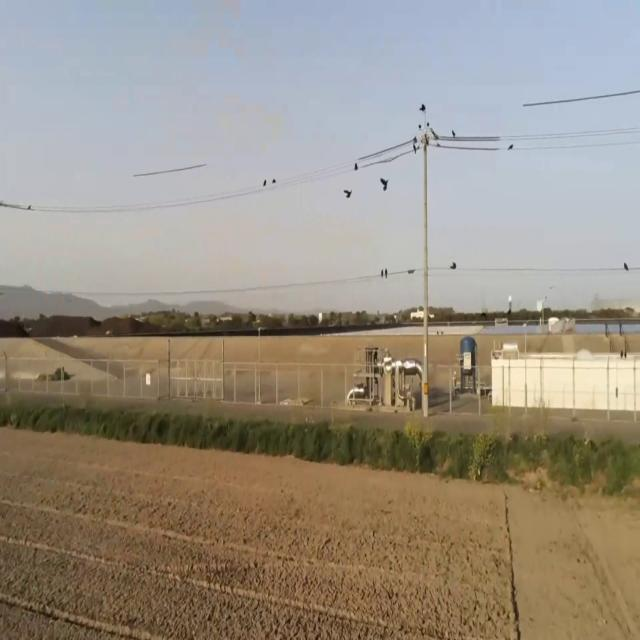bird: (380, 172, 389, 192), (344, 182, 352, 202), (508, 138, 514, 155), (414, 133, 418, 156), (451, 257, 456, 275), (624, 258, 628, 276), (354, 159, 358, 173), (263, 177, 267, 190), (272, 176, 276, 188), (384, 266, 386, 278)
